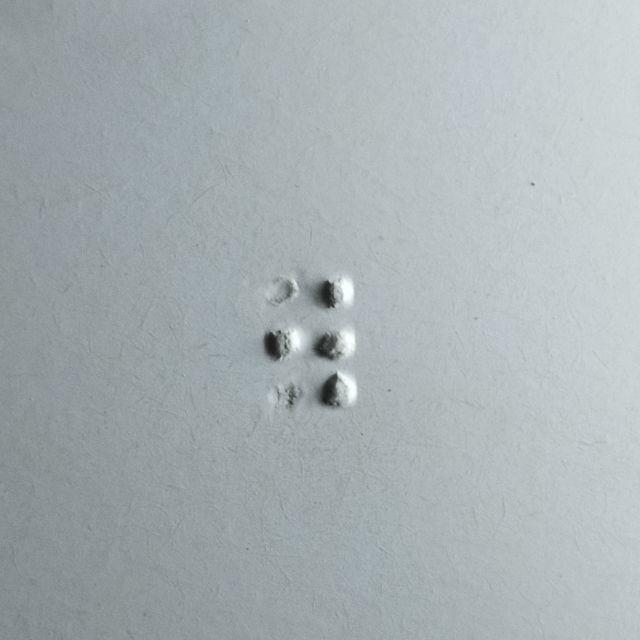wala: (264, 277, 357, 410)
